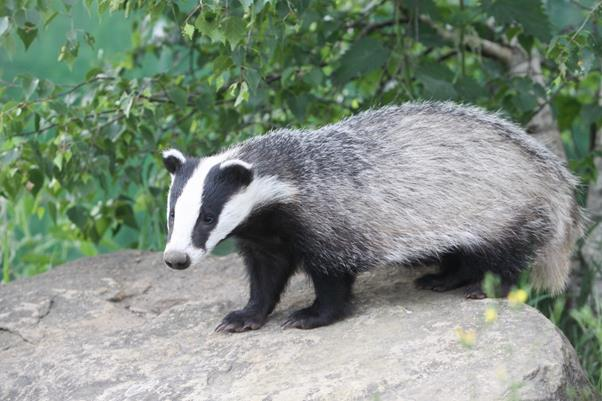badger: (158, 98, 576, 327)
